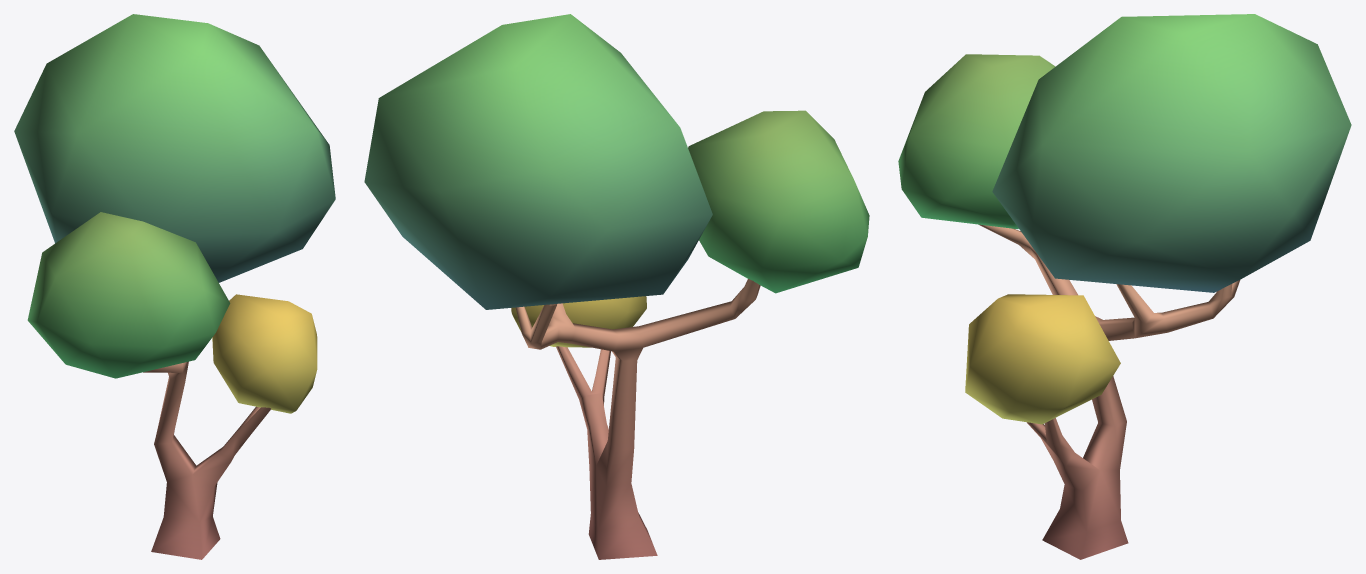
The model's file is Tree_Oak_03.fbx.
3 views of the same model, side by side, from view 1: azimuth 30°, elevation 25°; view 2: azimuth 150°, elevation 25°; view 3: azimuth 270°, elevation 25° (orthographic). The views are drawn at different scales.
Parts seen in each view (by area): view 1: Tree_Oak_03, Tree_Oak_03_Trunk; view 2: Tree_Oak_03, Tree_Oak_03_Trunk; view 3: Tree_Oak_03, Tree_Oak_03_Trunk.
Boxes of the visible parts, box(x1,y1,x2,y2) form: Tree_Oak_03: box(14, 14, 335, 413); Tree_Oak_03_Trunk: box(143, 361, 270, 559); Tree_Oak_03: box(364, 14, 869, 347); Tree_Oak_03_Trunk: box(515, 279, 760, 559); Tree_Oak_03: box(898, 14, 1351, 424); Tree_Oak_03_Trunk: box(979, 224, 1240, 559).
Size of the model in its own units: 673 by 876 by 662.
